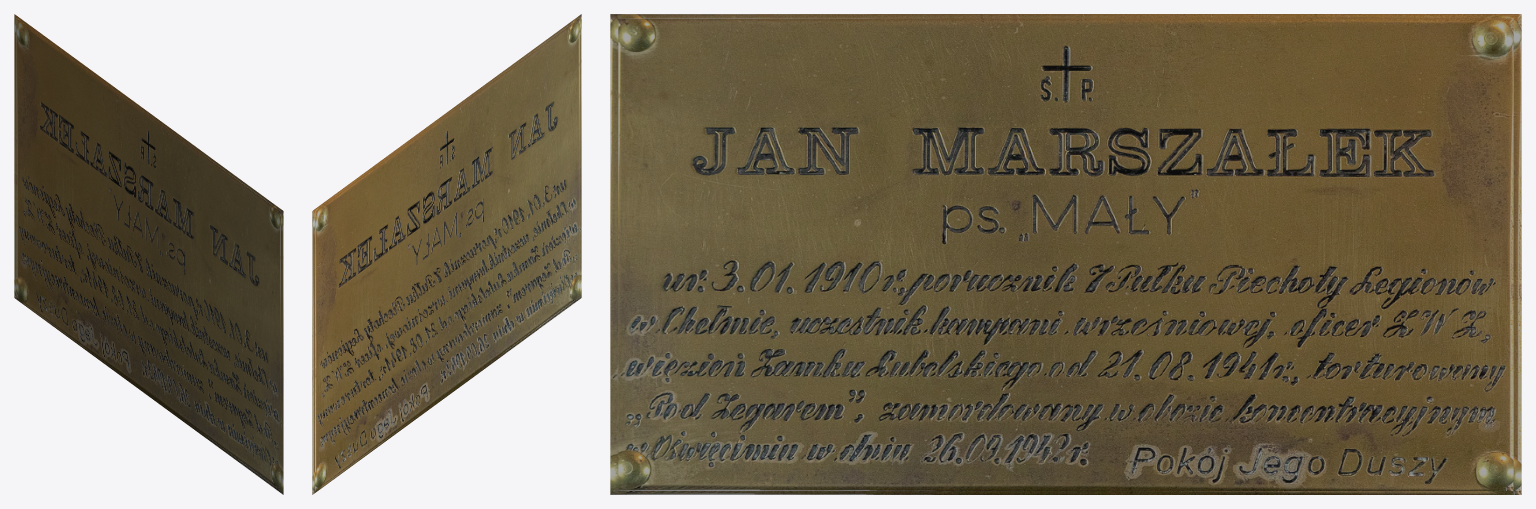
File: 2. ŚP. JAN MARSZAŁEK.glb
3 renders of one model, left to right at view 1: azimuth 30°, elevation 25°; view 2: azimuth 150°, elevation 25°; view 3: azimuth 270°, elevation 25°, orthographic. The views are drawn at different scales.
Visible parts, largest first — view 1: Plane; view 2: Plane; view 3: Plane.
Part boxes in pixels (<box>): Plane: <box>14,14,283,494</box>; Plane: <box>312,14,581,494</box>; Plane: <box>610,14,1521,494</box>.
Bounding box in the file's own units: 0.0246 × 11 × 18.9.
1 material, 1 textured.
